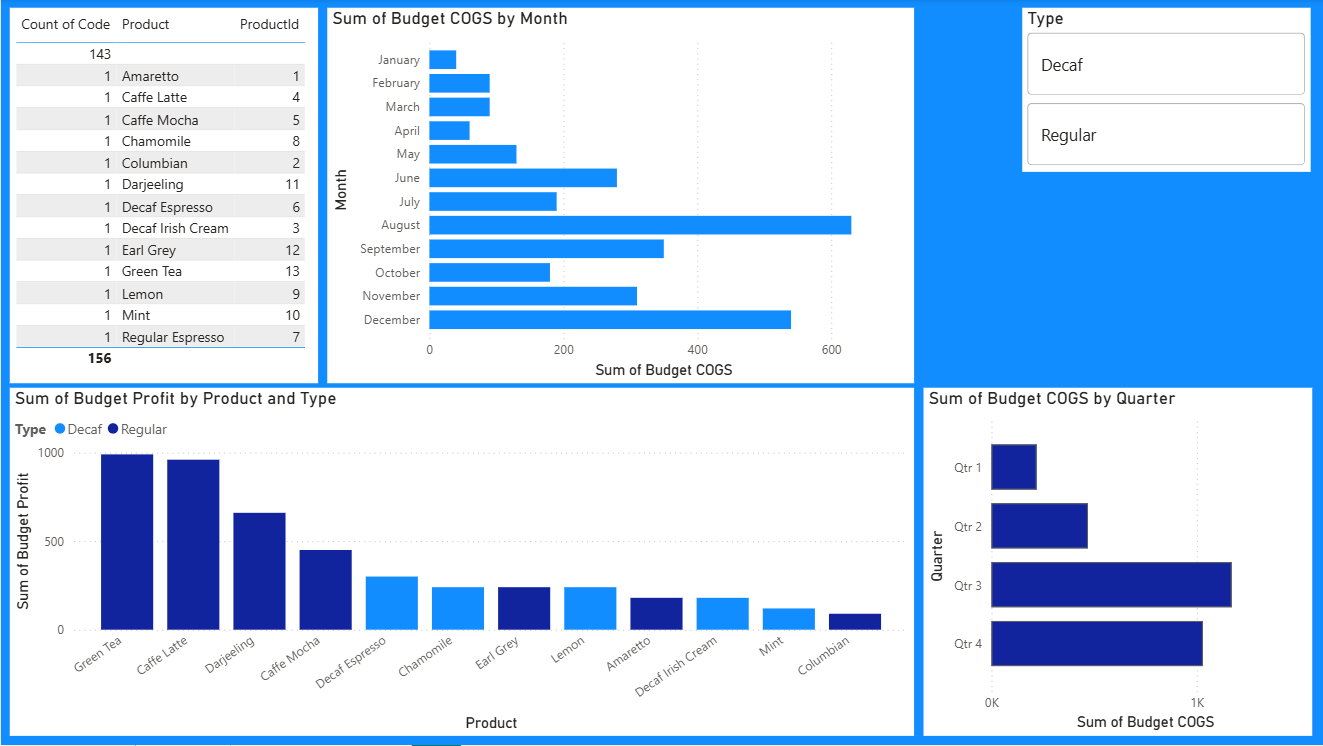

The page's visual inventory and layout, read from the dashboard file:
{"tool":"powerbi","page":{"name":"Duplicate of Page 1","canvas":[1280,720],"ordinal":1},"visuals":[{"type":"advancedSlicerVisual","fields":{"Values":["Products.Type"]},"box":[986.2,8.8,278.8,158.8],"z":0},{"type":"tableEx","fields":{"Values":["CountNonNull(Area.Code)","Products.Product","Products.ProductId"]},"box":[8.8,8.8,297.5,362.5],"z":1000},{"type":"clusteredBarChart","fields":{"Y":["Sum(Sales.Budget COGS)"],"Category":["Sales.Date.Variation.Date Hierarchy.Month"]},"box":[315,8.8,566.2,362.5],"z":2000},{"type":"columnChart","fields":{"Y":["Sum(Sales.Budget Profit)"],"Category":["Products.Product"],"Series":["Products.Type"]},"box":[8.8,375,872.5,336.2],"z":3000},{"type":"barChart","fields":{"Y":["Sum(Sales.Budget COGS)"],"Category":["Sales.Date.Variation.Date Hierarchy.Quarter"]},"box":[890,375,375,336.2],"z":4000}]}

Visuals, with their boxes in screenshot pixels (x1, y1, x2, y2), scaled from the page's 1280x720 canvas onto the 1323x746 screenshot:
advancedSlicerVisual - Products.Type: [x1=1019, y1=9, x2=1307, y2=174]
tableEx - CountNonNull(Area.Code) x Products.Product: [x1=9, y1=9, x2=317, y2=385]
clusteredBarChart - Sum(Sales.Budget COGS) x Sales.Date.Variation.Date Hierarchy.Month: [x1=326, y1=9, x2=911, y2=385]
columnChart - Sum(Sales.Budget Profit) x Products.Product: [x1=9, y1=389, x2=911, y2=737]
barChart - Sum(Sales.Budget COGS) x Sales.Date.Variation.Date Hierarchy.Quarter: [x1=920, y1=389, x2=1307, y2=737]
